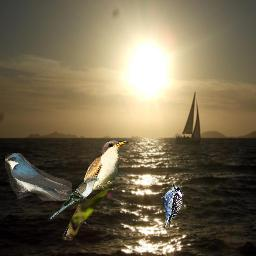Cuckoo: (61, 138, 130, 242), (48, 177, 100, 221)
Swallow: (5, 153, 72, 201)
Woodpecker: (156, 181, 186, 233)
